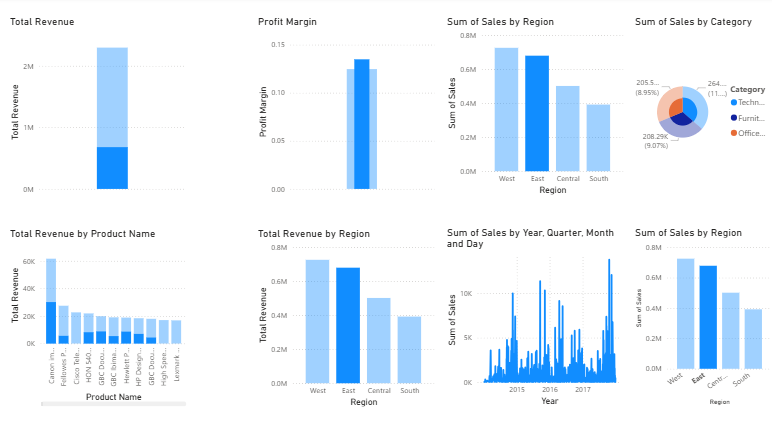

This screenshot's page, from the dashboard's own definition file:
{"tool":"powerbi","page":{"name":"Page 1","canvas":[1280,720],"ordinal":0},"visuals":[{"type":"columnChart","fields":{"Category":["Products.Product Name"],"Y":["Customers.Total Revenue"]},"box":[21.8,376.3,299,299],"z":0},{"type":"clusteredColumnChart","fields":{"Category":["Regions.Region"],"Y":["Customers.Total Revenue"]},"box":[428.3,376.3,299,299],"z":1000},{"type":"clusteredColumnChart","fields":{"Y":["Customers.Profit Margin"]},"box":[428.3,30.2,299,299],"z":2000},{"type":"clusteredColumnChart","fields":{"Category":["Regions.Region"],"Y":["Sum(Orders.Sales)"]},"box":[737,30,299,299],"z":3000},{"type":"lineChart","fields":{"Y":["Sum(Orders.Sales)"],"Category":["Orders.Order Date.Variation.Date Hierarchy.Year","Orders.Order Date.Variation.Date Hierarchy.Quarter","Orders.Order Date.Variation.Date Hierarchy.Month","Orders.Order Date.Variation.Date Hierarchy.Day"]},"box":[737,376,299,299],"z":4000},{"type":"pieChart","fields":{"Category":["Products.Category"],"Y":["Sum(Orders.Sales)"]},"box":[1046,30,234,299],"z":5000},{"type":"clusteredColumnChart","fields":{"Y":["Customers.Total Revenue"]},"box":[22,30,299,299],"z":6000},{"type":"clusteredColumnChart","fields":{"Category":["Orders.Region"],"Y":["Sum(Orders.Sales)"]},"box":[1046,376,234,299],"z":7000}]}

Visuals, with their boxes in screenshot pixels (x1, y1, x2, y2), scaled from the page's 1280x720 canvas onto the 772x427 screenshot:
columnChart - Products.Product Name x Customers.Total Revenue: {"left": 13, "top": 223, "right": 193, "bottom": 400}
clusteredColumnChart - Regions.Region x Customers.Total Revenue: {"left": 258, "top": 223, "right": 439, "bottom": 400}
clusteredColumnChart - Customers.Profit Margin: {"left": 258, "top": 18, "right": 439, "bottom": 195}
clusteredColumnChart - Regions.Region x Sum(Orders.Sales): {"left": 445, "top": 18, "right": 625, "bottom": 195}
lineChart - Sum(Orders.Sales) x Orders.Order Date.Variation.Date Hierarchy.Year: {"left": 445, "top": 223, "right": 625, "bottom": 400}
pieChart - Products.Category x Sum(Orders.Sales): {"left": 631, "top": 18, "right": 771, "bottom": 195}
clusteredColumnChart - Customers.Total Revenue: {"left": 13, "top": 18, "right": 194, "bottom": 195}
clusteredColumnChart - Orders.Region x Sum(Orders.Sales): {"left": 631, "top": 223, "right": 771, "bottom": 400}
